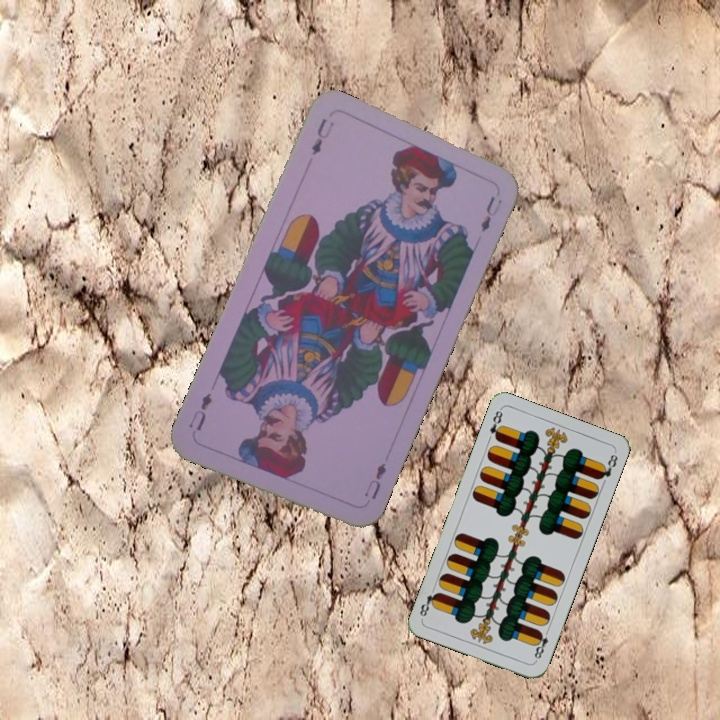E8: (530, 625, 552, 664), (486, 406, 506, 443)
EU: (307, 114, 338, 158), (360, 458, 389, 502)
